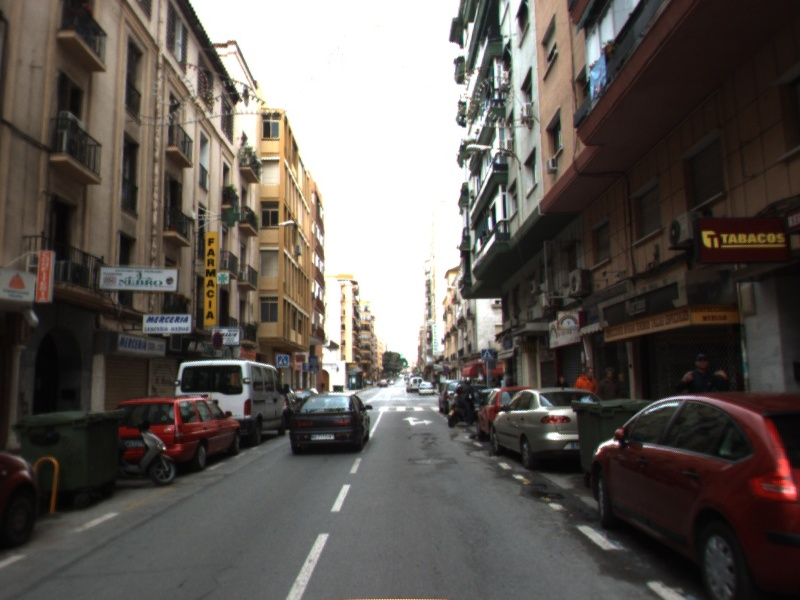STRAIGHT_RIGHT: (400, 414, 436, 427)
